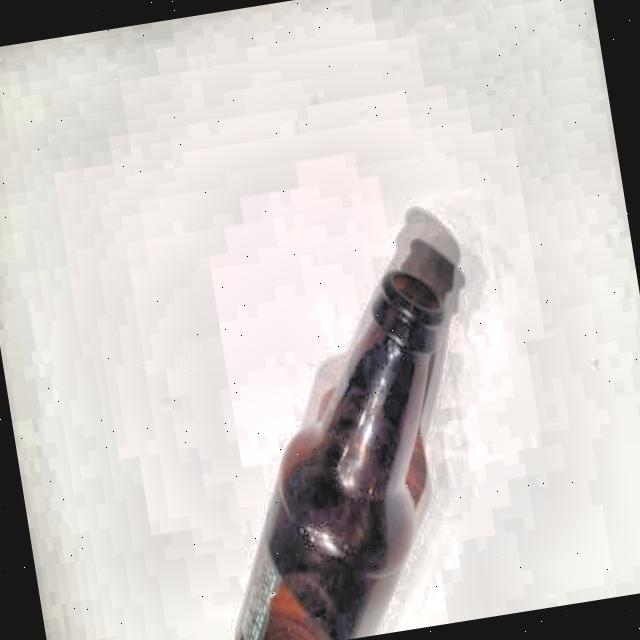glass: (179, 254, 498, 640)
